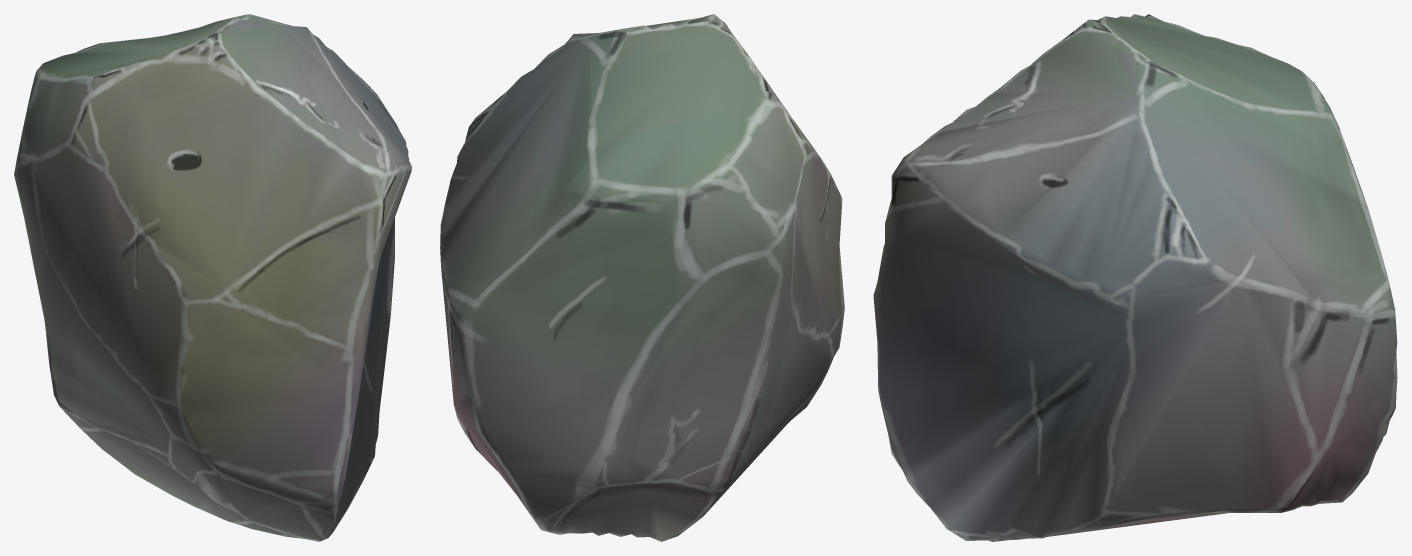
Rendered from Stein.fbx.
3 renders of one model, left to right at view 1: azimuth 30°, elevation 25°; view 2: azimuth 150°, elevation 25°; view 3: azimuth 270°, elevation 25°, orthographic. The views are drawn at different scales.
Parts seen in each view (by area): view 1: Cube; view 2: Cube; view 3: Cube.
Part boxes in pixels (box(x1,y1,x2,y2)): Cube: box(14, 14, 411, 541); Cube: box(440, 14, 844, 541); Cube: box(873, 14, 1397, 541).
Size of the model in its own units: 145 by 195 by 184.
